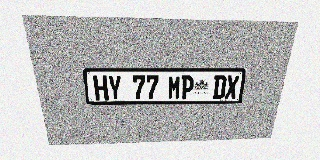7: (132, 76, 145, 100), (146, 76, 159, 100)
D: (212, 75, 227, 99)
H: (93, 76, 109, 100)
M: (167, 76, 181, 99)
P: (180, 76, 194, 99)
X: (224, 75, 240, 99)
Y: (107, 76, 122, 100)
